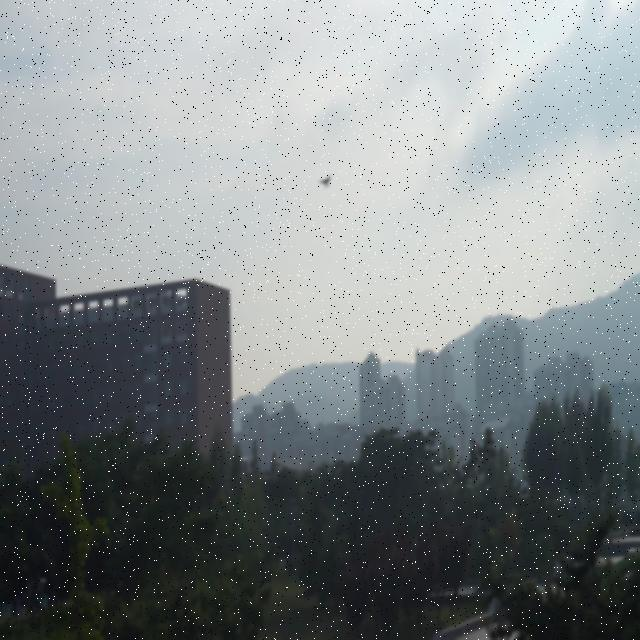UAV: (318, 175, 332, 189)
